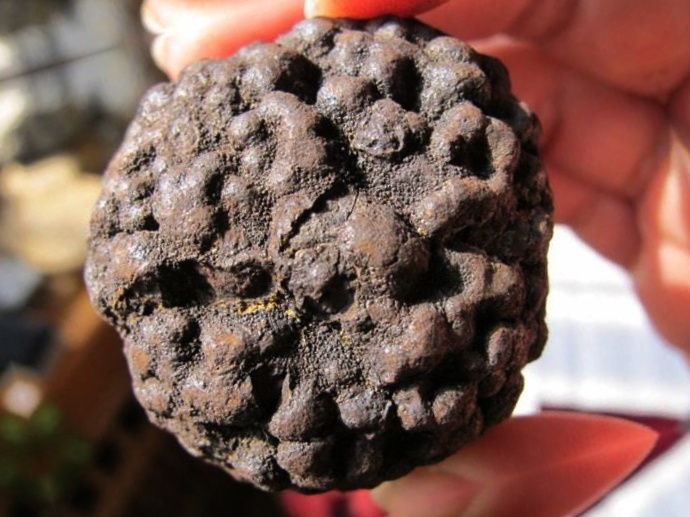halobolite: (82, 34, 570, 477)
